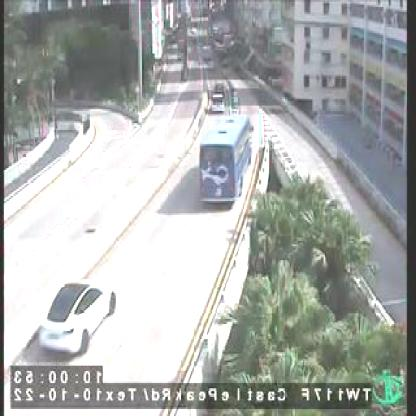Bus: (198, 116, 255, 208)
Car: (40, 278, 114, 356), (210, 86, 225, 114)
